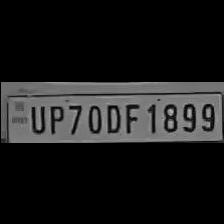0: (83, 100, 103, 134)
1: (140, 99, 158, 133)
7: (64, 100, 82, 134)
8: (159, 98, 179, 132)
9: (178, 98, 198, 132), (197, 98, 217, 132)
D: (102, 99, 120, 133)
F: (122, 99, 140, 133)
P: (44, 100, 64, 134)
U: (25, 102, 45, 134)
